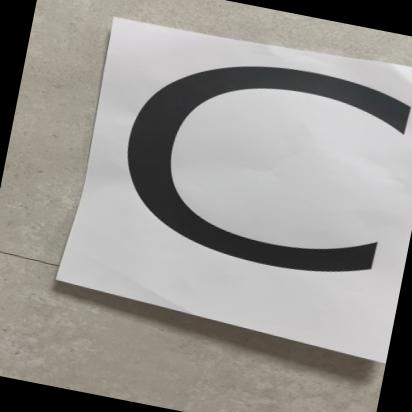seat: (61, 20, 412, 332)
